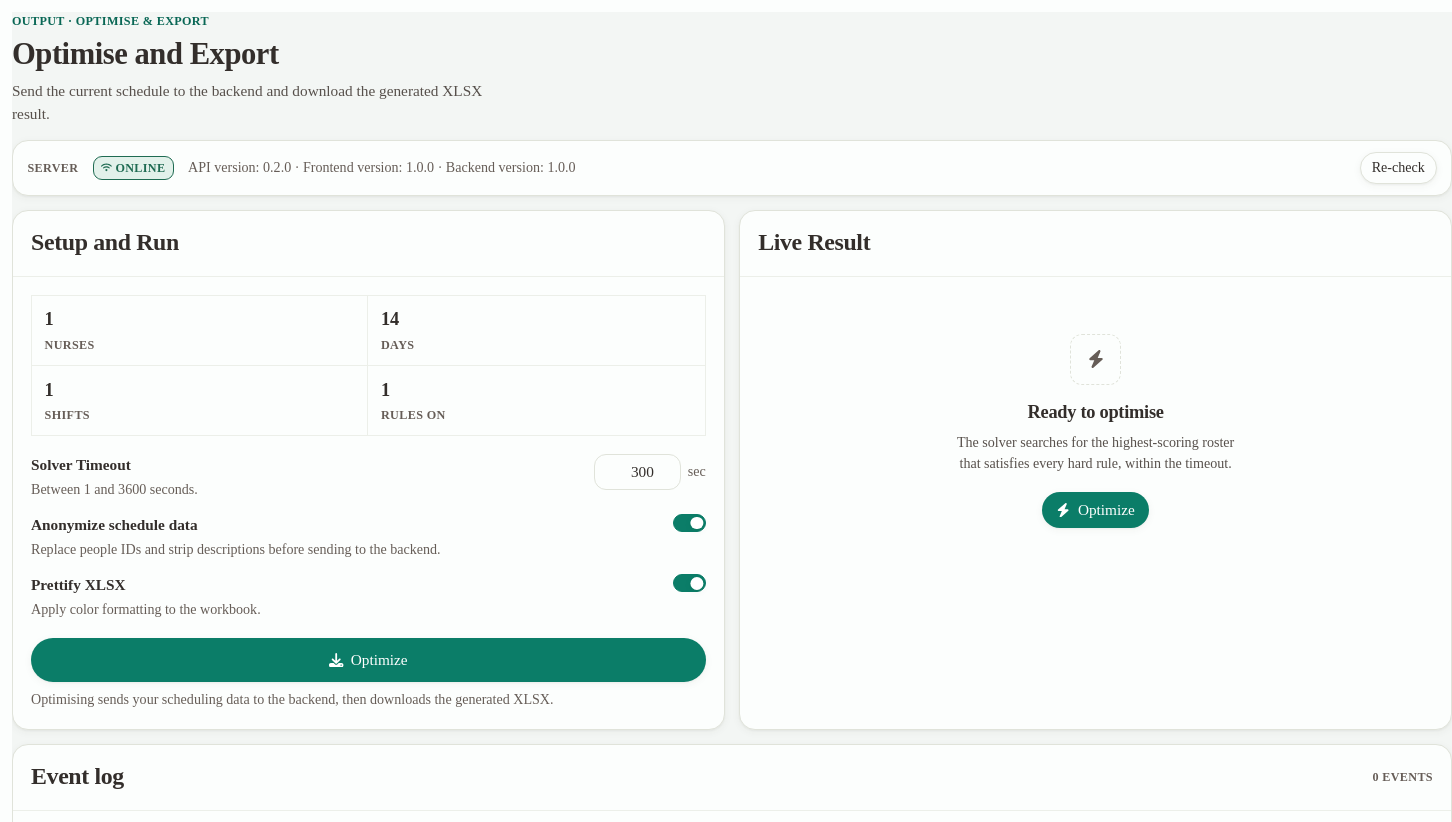
Test: OptimizeAndExportScreen — production roster capture › the DEFAULT screen fetches /roster once, commits one candidate, and gates the DELETE on it
Click the button with test id "optimize-submit": [368, 660] box [31,638,706,682]
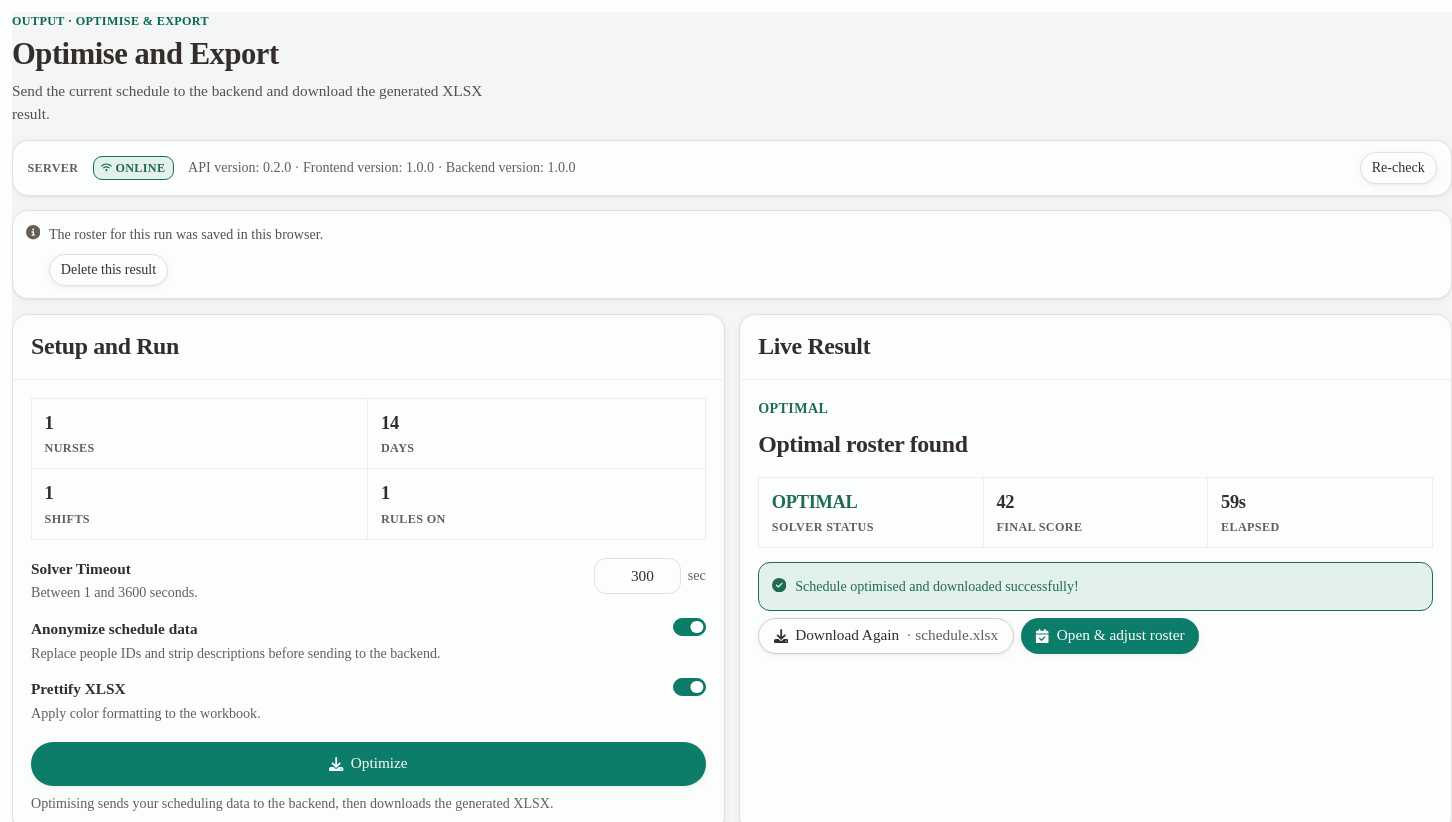
Expected: the element with test id "optimize-capture-committed" is shown, [12,210,1451,299]
